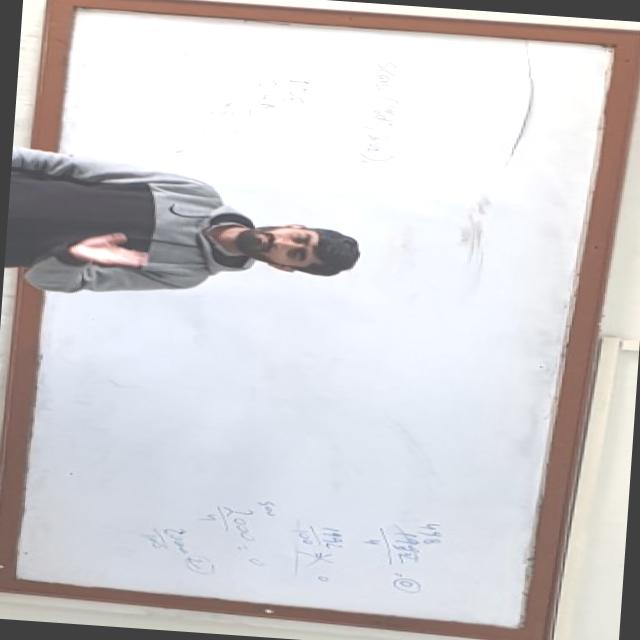Instructor: (5, 165, 379, 318)
White-board: (1, 0, 632, 640)
